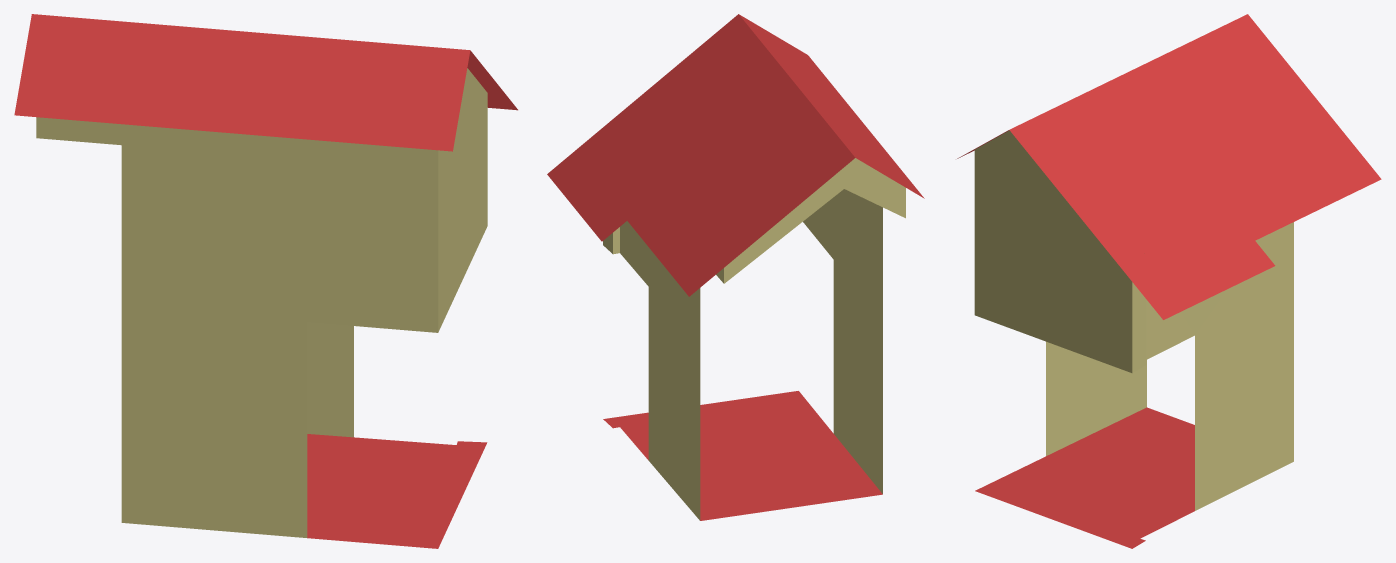
The picture shows the model from 3 angles, left to right: view 1: azimuth 30°, elevation 25°; view 2: azimuth 150°, elevation 25°; view 3: azimuth 270°, elevation 25°; orthographic projection. The views are drawn at different scales.
Size of the model in its own units: 15.07 by 14.13 by 13.91.
